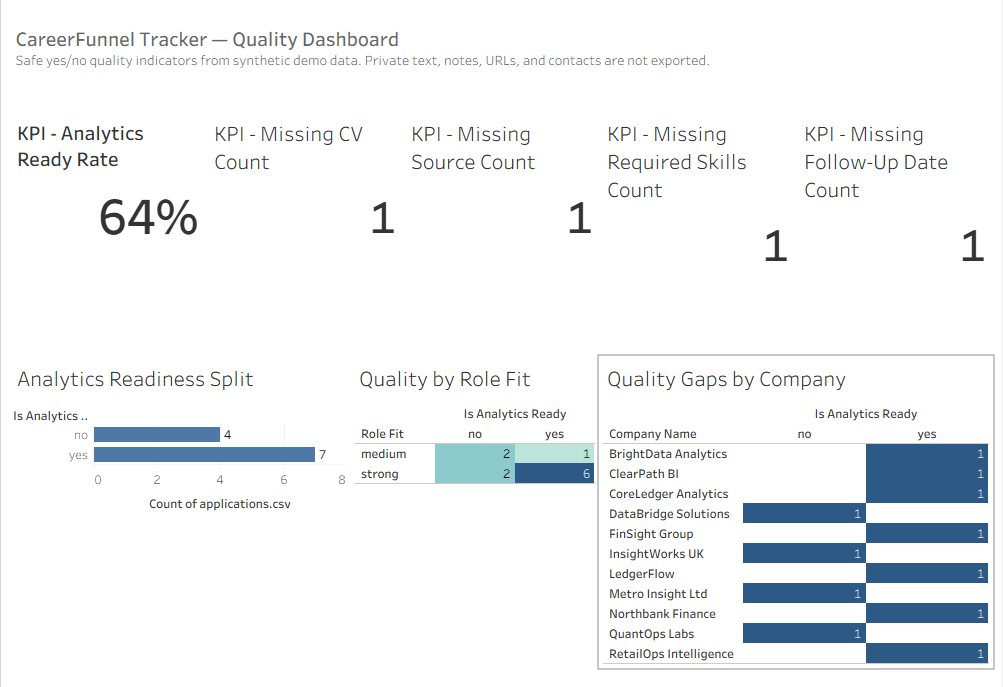

The page's visual inventory and layout, read from the dashboard file:
{"tool":"tableau","page":{"name":"CareerFunnel Quality Dashboard","canvas":[1000,800],"ordinal":1},"visuals":[{"type":"text","box":[8,8,984,128]},{"type":"worksheet","title":"KPI - Analytics Ready Rate","mark":"Automatic","box":[8,136,196.8,245]},{"type":"worksheet","title":"KPI - Missing CV Count","mark":"Automatic","box":[204.8,136,196.8,245]},{"type":"worksheet","title":"KPI - Missing Source Count","mark":"Automatic","box":[401.6,136,196.8,245]},{"type":"worksheet","title":"KPI - Missing Required Skills Count","mark":"Automatic","box":[598.4,136,196.8,245]},{"type":"worksheet","title":"KPI - Missing Follow-Up Date Count","mark":"Automatic","box":[795.2,136,196.8,245]},{"type":"worksheet","title":"Analytics Readiness Split","mark":"Bar","rows":["is_analytics_ready"],"cols":["applications.csv_982CC9DD10CB4471A3DE593B34F6F286"],"box":[8,381,342,411]},{"type":"worksheet","title":"Quality by Role Fit","mark":"Square","rows":["role_fit"],"cols":["is_analytics_ready"],"box":[350,381,248,411]},{"type":"worksheet","title":"Quality Gaps by Company","mark":"Square","rows":["company_name"],"cols":["is_analytics_ready"],"box":[598,381,394,312]}]}

Visuals, with their boxes on the page's 1000x800 design canvas (x1, y1, x2, y2). These are canvas units, not pixel positions in the 1003x687 screenshot, which may show the page scaled, cropped or inside an application window:
text: <box>8,8,992,136</box>
"KPI - Analytics Ready Rate" worksheet: <box>8,136,205,381</box>
"KPI - Missing CV Count" worksheet: <box>205,136,402,381</box>
"KPI - Missing Source Count" worksheet: <box>402,136,598,381</box>
"KPI - Missing Required Skills Count" worksheet: <box>598,136,795,381</box>
"KPI - Missing Follow-Up Date Count" worksheet: <box>795,136,992,381</box>
"Analytics Readiness Split" worksheet (Bar marks): <box>8,381,350,792</box>
"Quality by Role Fit" worksheet (Square marks): <box>350,381,598,792</box>
"Quality Gaps by Company" worksheet (Square marks): <box>598,381,992,693</box>
